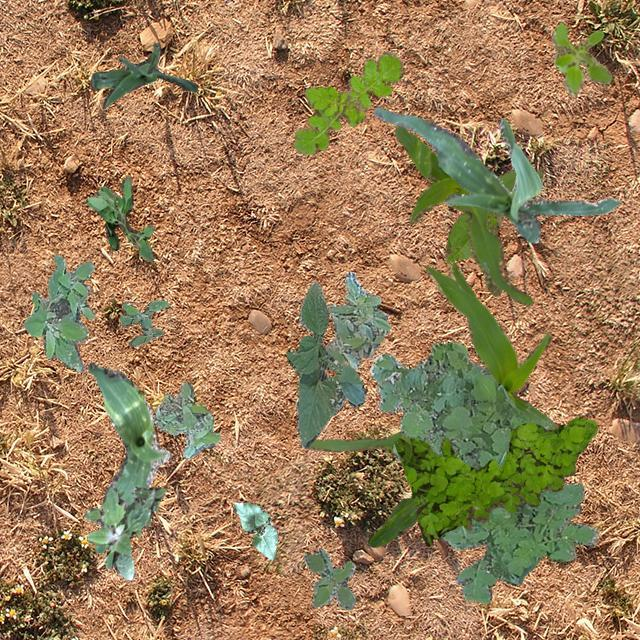crop: (303, 262, 557, 450), (373, 106, 620, 242), (394, 124, 532, 306), (86, 362, 168, 552), (286, 280, 364, 447), (444, 169, 542, 261), (90, 41, 196, 106), (366, 494, 416, 546), (232, 502, 276, 560)
weed: (368, 341, 598, 604), (394, 416, 596, 544), (293, 52, 402, 154), (22, 254, 94, 370), (83, 486, 165, 578), (324, 270, 390, 370), (84, 176, 154, 260), (152, 382, 218, 458), (550, 22, 612, 94), (302, 548, 354, 608), (119, 300, 168, 346)
